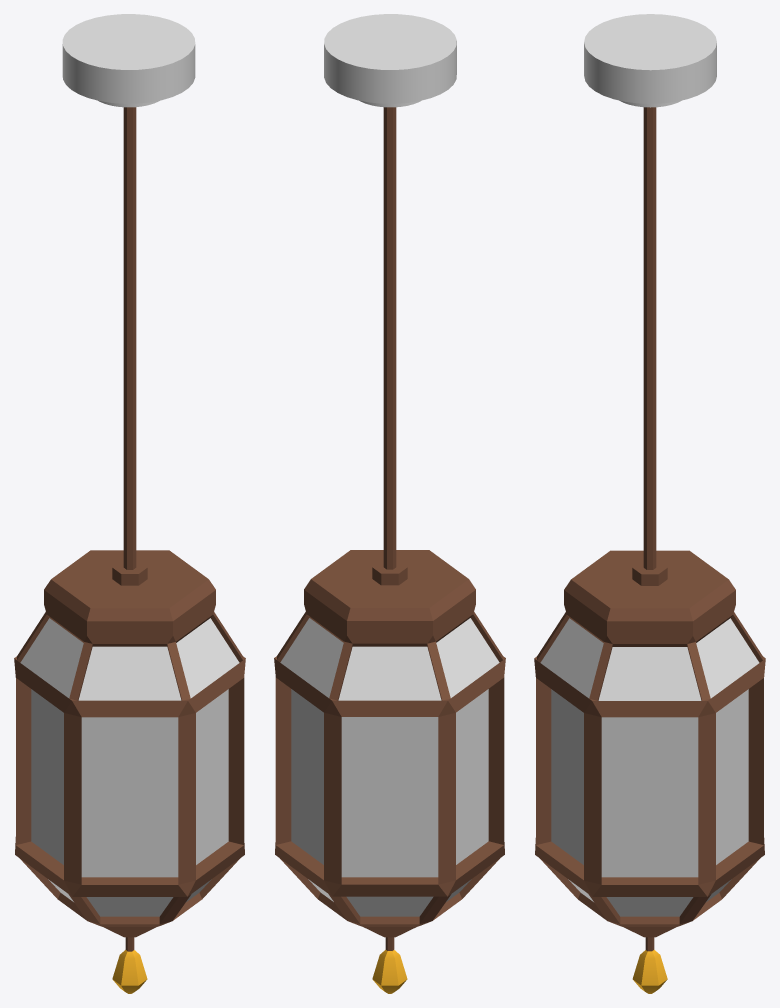
File: NicheLamp02.fbx
3 renders of one model, left to right at view 1: azimuth 30°, elevation 25°; view 2: azimuth 150°, elevation 25°; view 3: azimuth 270°, elevation 25°, orthographic.
Parts seen in each view (by area): view 1: Lamp03.001, Circle.177, Cylinder.079; view 2: Lamp03.001, Circle.177, Cylinder.079; view 3: Lamp03.001, Circle.177, Cylinder.079.
Boxes of the visible parts, x1,y1,x2,y2 form: Lamp03.001: (14, 107, 245, 951); Circle.177: (62, 14, 195, 103); Cylinder.079: (112, 950, 147, 993); Lamp03.001: (274, 107, 505, 950); Circle.177: (324, 14, 456, 103); Cylinder.079: (372, 949, 407, 993); Lamp03.001: (534, 107, 765, 951); Circle.177: (584, 14, 716, 103); Cylinder.079: (632, 949, 667, 993).
Size of the model in its own units: 10.32 by 52.04 by 11.5.
